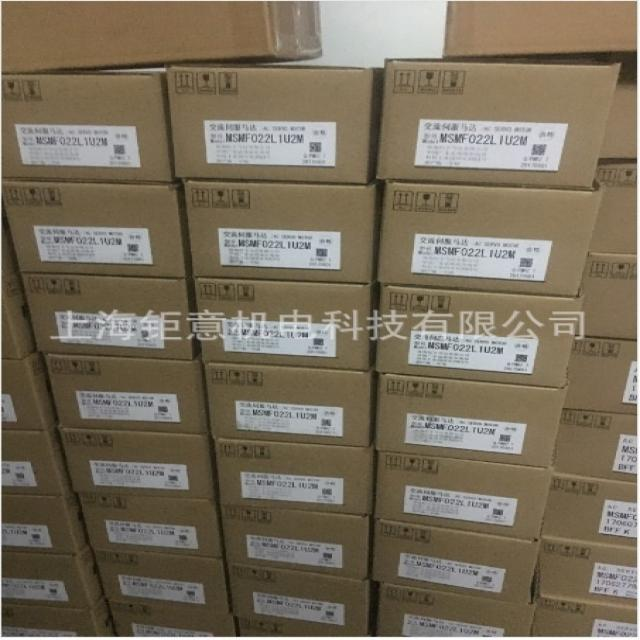box: (377, 59, 620, 189), (377, 177, 605, 299), (164, 65, 384, 185), (1, 0, 320, 72), (374, 284, 582, 389), (184, 177, 378, 284), (1, 65, 175, 184), (0, 178, 193, 277), (375, 372, 566, 468), (193, 278, 378, 371), (374, 451, 553, 543), (18, 271, 201, 360), (203, 362, 376, 448), (372, 519, 539, 605), (44, 350, 211, 433), (444, 0, 639, 66), (212, 439, 376, 515), (219, 505, 374, 579), (59, 427, 218, 498), (224, 561, 379, 633), (79, 494, 224, 557), (377, 582, 531, 637), (92, 549, 231, 607), (532, 535, 637, 611), (542, 471, 637, 546), (2, 542, 105, 609), (553, 407, 636, 482), (563, 336, 637, 414), (575, 253, 637, 340), (2, 493, 89, 555), (2, 420, 73, 495), (105, 598, 237, 636), (2, 593, 116, 637), (592, 157, 639, 254), (527, 595, 636, 636), (2, 352, 58, 430), (600, 65, 639, 158), (1, 270, 37, 359), (233, 615, 377, 637), (1, 181, 18, 276)
